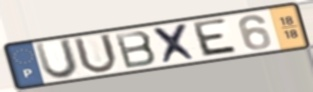6: (236, 13, 273, 51)
B: (112, 29, 159, 71)
E: (191, 17, 241, 59)
U: (71, 32, 121, 76), (32, 37, 81, 81)
X: (150, 21, 201, 66)
